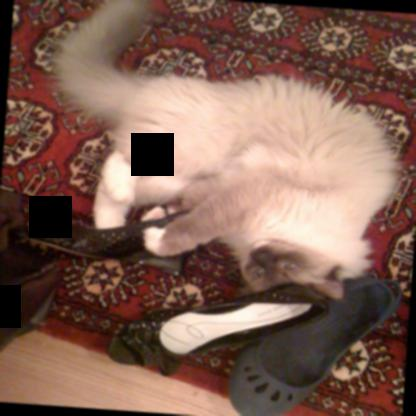handbag: (0, 192, 195, 355)
